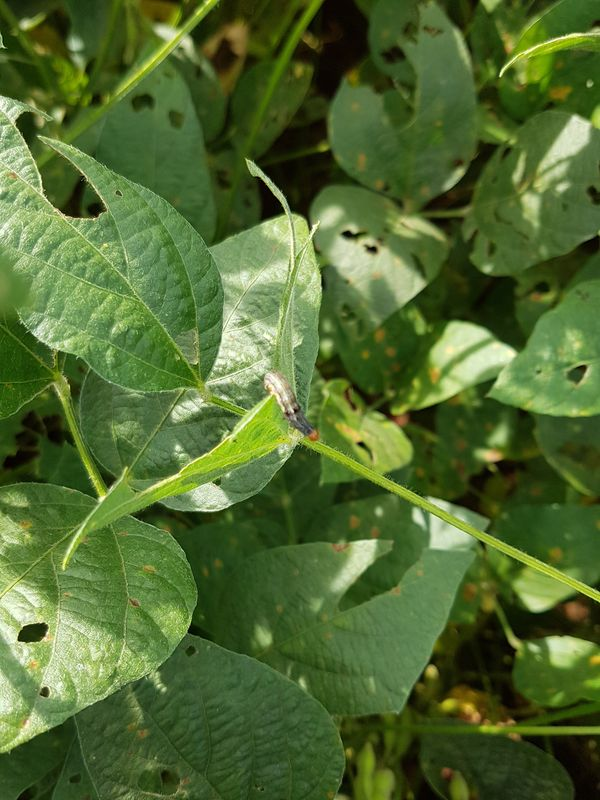Spodoptera_albula: (253, 362, 327, 451)
